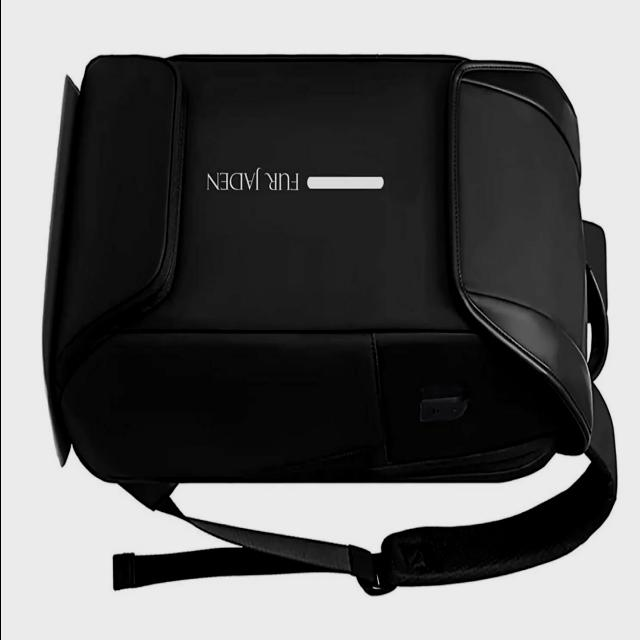backpack: (44, 53, 618, 597)
